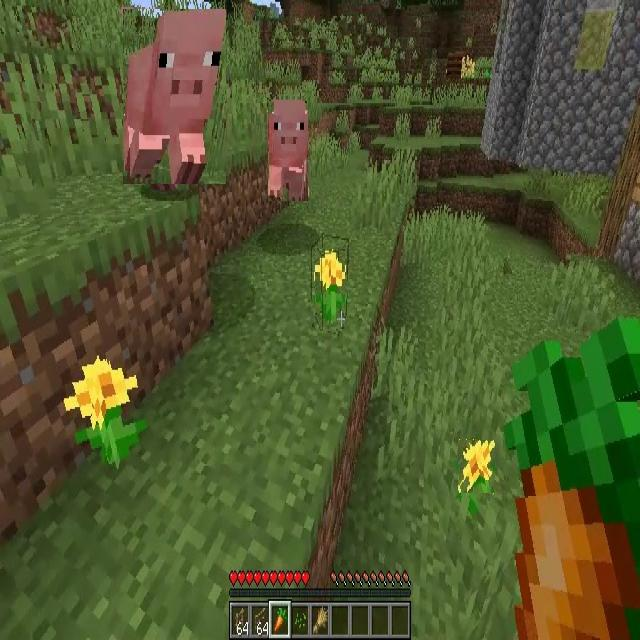flower: (65, 355, 142, 470), (316, 248, 346, 331), (458, 440, 495, 493)
pig: (123, 9, 226, 184), (268, 101, 308, 201)
